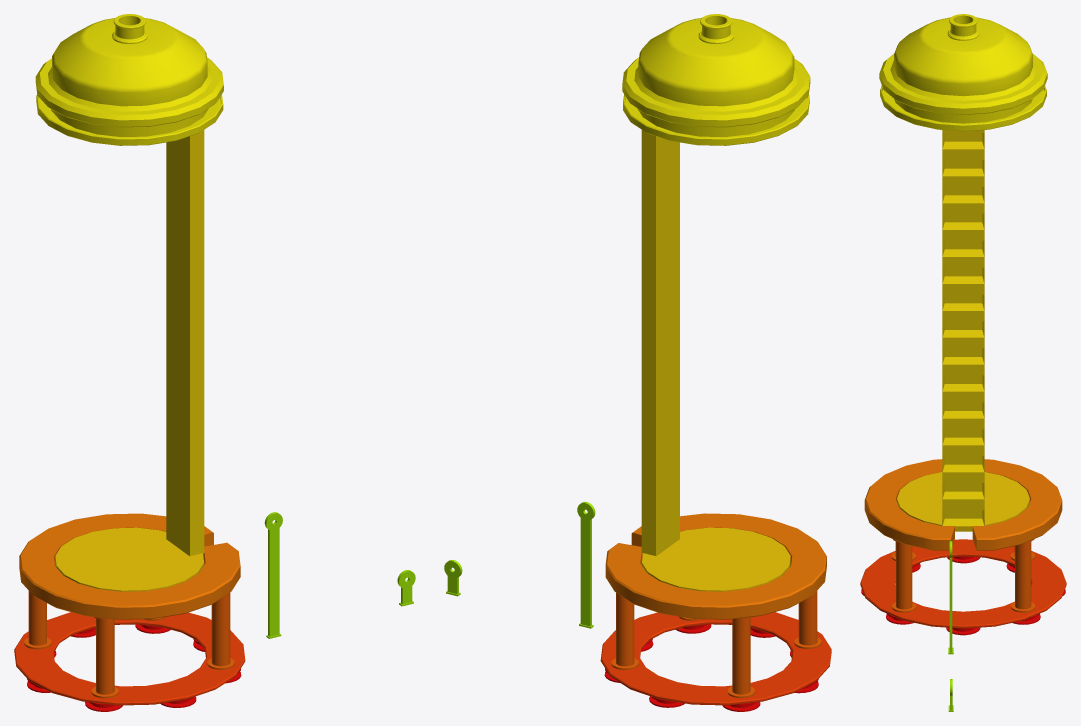
Rendered from Column ATTEMPT THREE ANIMATABLE STUFF.fbx.
3 views of the same model, side by side, from view 1: azimuth 30°, elevation 25°; view 2: azimuth 150°, elevation 25°; view 3: azimuth 270°, elevation 25° (orthographic). The views are drawn at different scales.
Parts seen in each view (by area): view 1: SmartCombine_1; view 2: SmartCombine_1; view 3: SmartCombine_1.
Boxes of the visible parts, left/top/right/bottom form: SmartCombine_1: left=14, top=14, right=415, bottom=711; SmartCombine_1: left=444, top=14, right=831, bottom=711; SmartCombine_1: left=860, top=14, right=1066, bottom=711.
Bounding box in the file's own units: 216 × 351 × 115.
